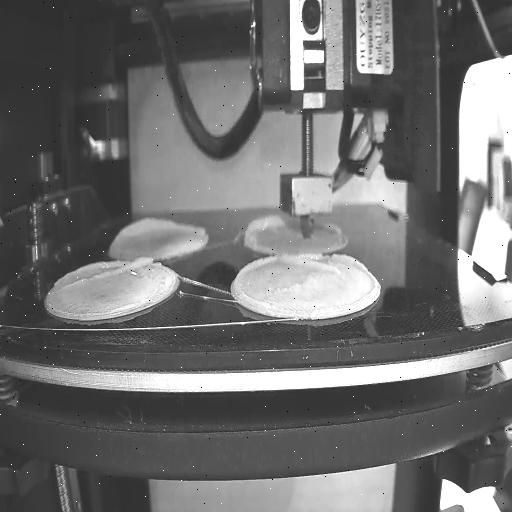over_extrusion: (63, 252, 153, 291), (115, 214, 207, 245), (234, 254, 276, 314), (282, 254, 370, 276), (241, 214, 284, 246)
